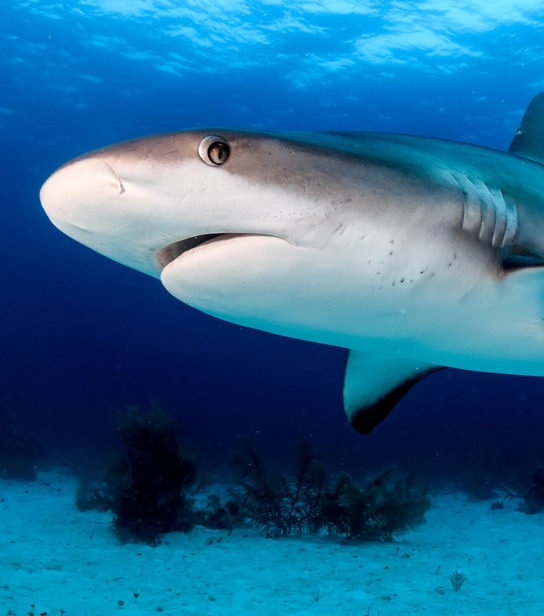shark: (48, 88, 544, 435)
